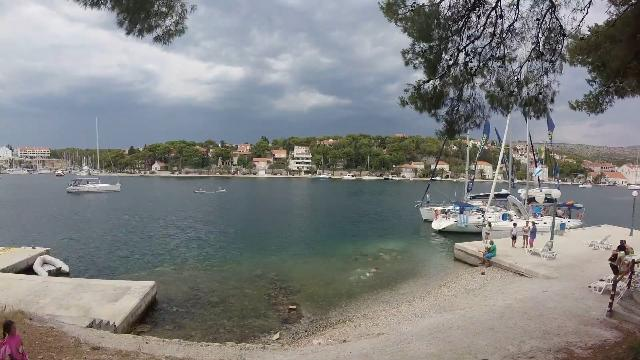Sailboat: (60, 175, 126, 195)
